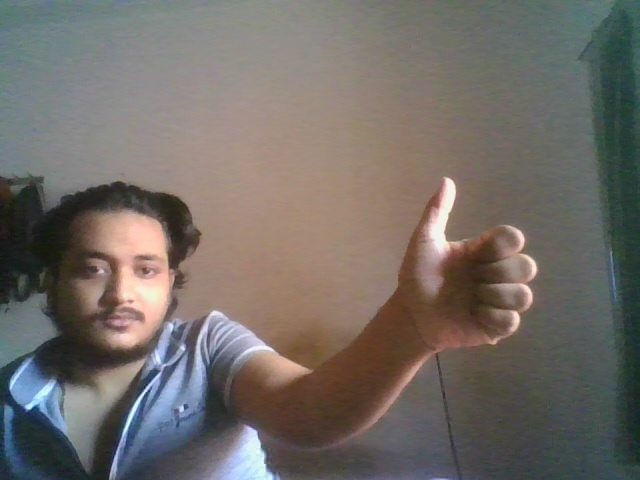ThumbsUp: (397, 176, 537, 356)
